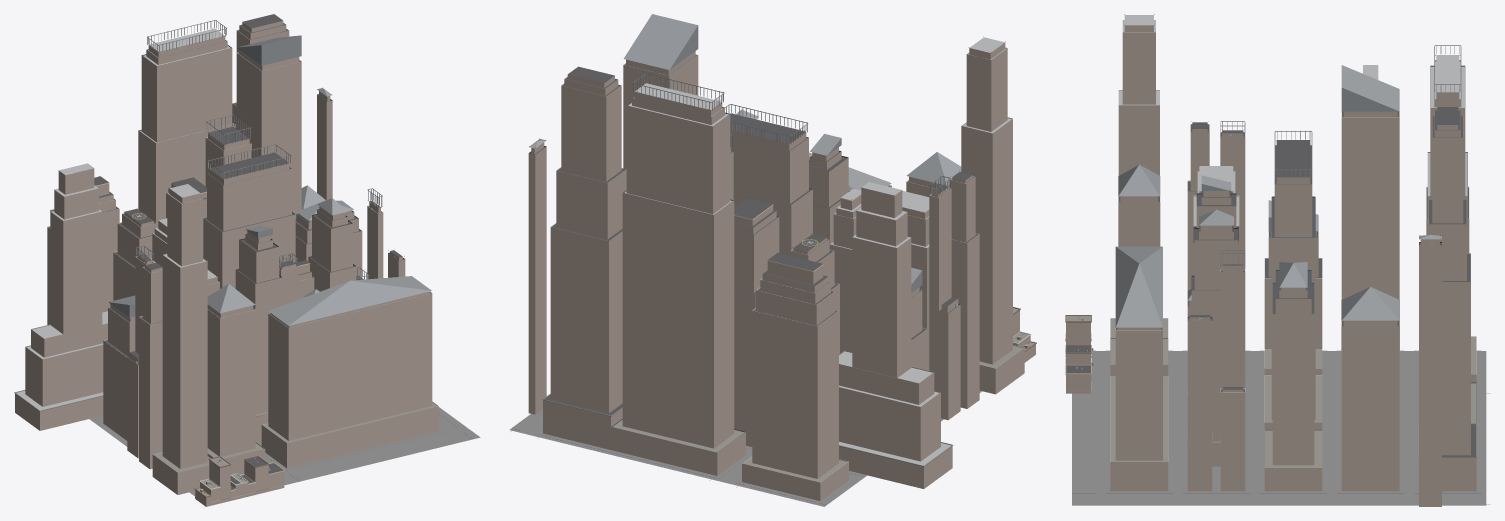
3 views of the same model, side by side, from view 1: azimuth 30°, elevation 25°; view 2: azimuth 150°, elevation 25°; view 3: azimuth 270°, elevation 25° (orthographic). The views are drawn at different scales.
Visible parts, largest first — view 1: t24_facade, t24_roof, t24_ground, t24_detail; view 2: t24_facade, t24_roof, t24_ground, t24_detail; view 3: t24_facade, t24_roof, t24_ground, t24_detail.
Part boxes in pixels (bbox=[...]): t24_facade: bbox=[15, 21, 438, 506]; t24_roof: bbox=[16, 14, 437, 496]; t24_ground: bbox=[89, 407, 480, 496]; t24_detail: bbox=[14, 23, 437, 502]; t24_facade: bbox=[528, 42, 1035, 500]; t24_roof: bbox=[529, 14, 1034, 482]; t24_ground: bbox=[509, 390, 982, 506]; t24_detail: bbox=[529, 47, 1036, 482]; t24_facade: bbox=[1066, 25, 1476, 506]; t24_roof: bbox=[1066, 14, 1476, 467]; t24_ground: bbox=[1072, 350, 1490, 505]; t24_detail: bbox=[1065, 20, 1476, 467].
Size of the model in its own units: 452 by 439 by 442.
